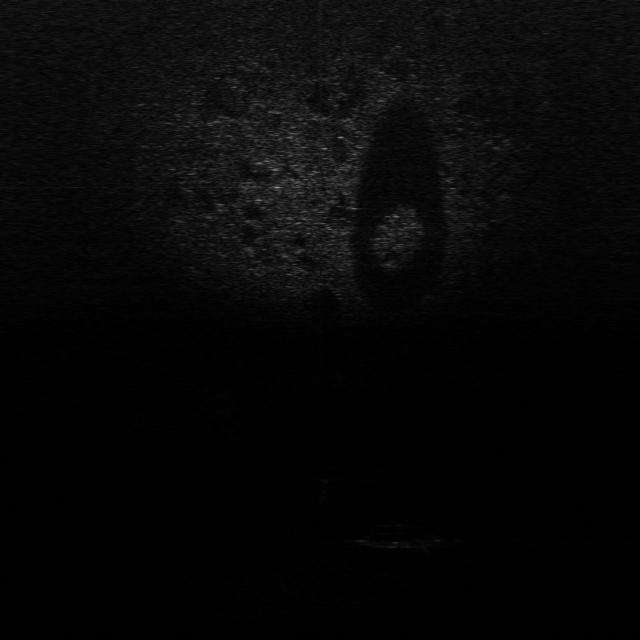ball: (310, 463, 342, 483)
tyre: (356, 519, 443, 553)
